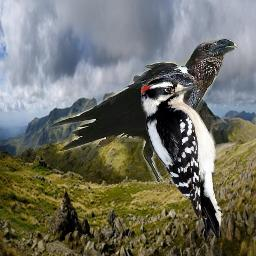Crow: (50, 38, 238, 184)
Woodpecker: (141, 77, 224, 241)
